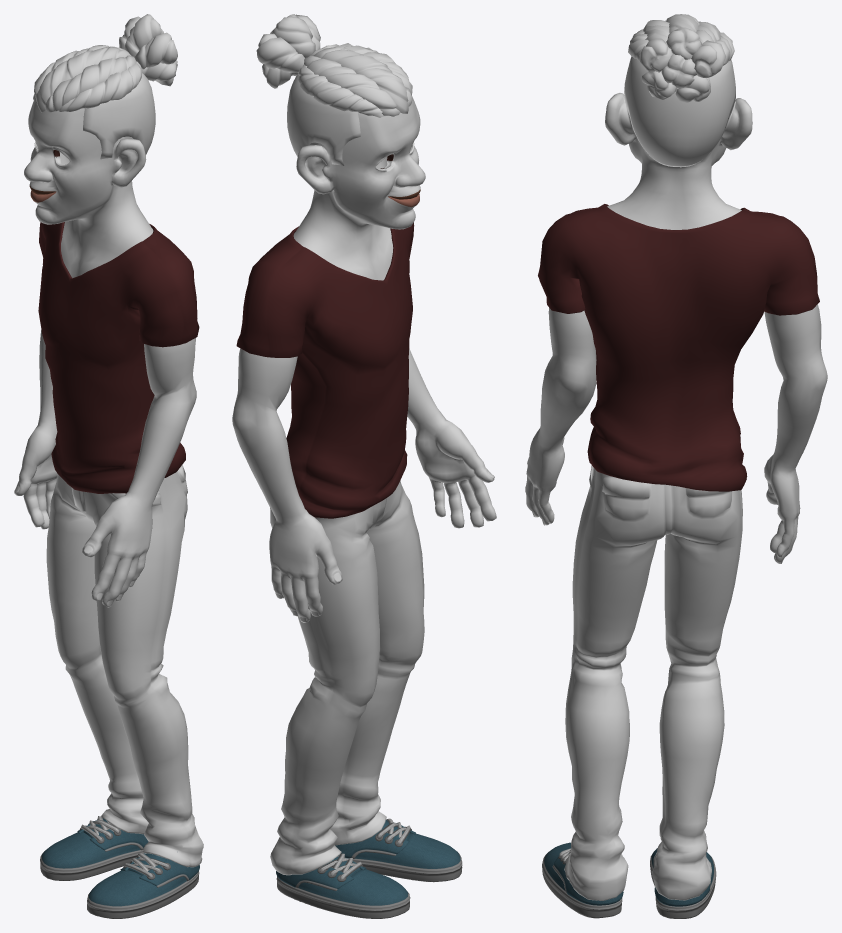
Rendered from Snow.fbx.
3 views of the same model, side by side, from view 1: azimuth 30°, elevation 25°; view 2: azimuth 150°, elevation 25°; view 3: azimuth 270°, elevation 25° (orthographic). The views are drawn at different scales.
Parts seen in each view (by area): view 1: GEO-snow_pants, GEO-snow_shirt, GEO-snow_body, GEO-snow_head, GEO-snow_hair_base, GEO-snow_shoes_base, GEO-snow_shoes_parts; view 2: GEO-snow_pants, GEO-snow_shirt, GEO-snow_body, GEO-snow_head, GEO-snow_hair_base, GEO-snow_shoes_base, GEO-snow_shoes_parts; view 3: GEO-snow_pants, GEO-snow_shirt, GEO-snow_body, GEO-snow_hair_base, GEO-snow_head, GEO-snow_shoes_base, GEO-snow_shoes_parts.
Boxes of the visible parts, box(x1,y1,x2,y2) form: GEO-snow_pants: box(46, 464, 203, 867); GEO-snow_shirt: box(38, 222, 199, 493); GEO-snow_body: box(14, 330, 196, 607); GEO-snow_head: box(24, 101, 153, 278); GEO-snow_hair_base: box(33, 14, 177, 159); GEO-snow_shoes_base: box(40, 818, 199, 918); GEO-snow_shoes_parts: box(77, 816, 199, 887); GEO-snow_pants: box(270, 481, 424, 875); GEO-snow_shirt: box(236, 222, 414, 518); GEO-snow_body: box(232, 348, 496, 622); GEO-snow_head: box(293, 98, 425, 280); GEO-snow_hair_base: box(256, 14, 412, 165); GEO-snow_shoes_base: box(276, 820, 462, 918); GEO-snow_shoes_parts: box(276, 818, 415, 890); GEO-snow_pants: box(564, 465, 742, 900); GEO-snow_shirt: box(538, 204, 819, 491); GEO-snow_body: box(525, 304, 827, 563); GEO-snow_hair_base: box(624, 14, 735, 167); GEO-snow_head: box(605, 93, 752, 229); GEO-snow_shoes_base: box(542, 842, 716, 918); GEO-snow_shoes_parts: box(552, 848, 711, 906).
Bounding box in the file's own units: 34.87 × 184 × 57.07.
